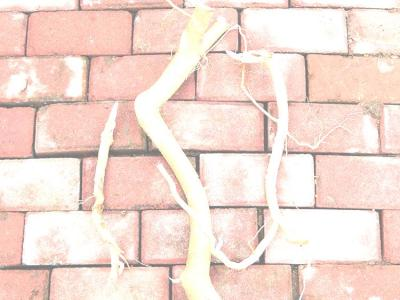Root: (134, 5, 288, 299), (90, 102, 127, 279)
